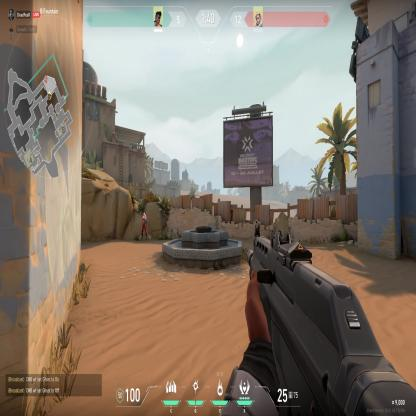enemy: (140, 211, 148, 241)
